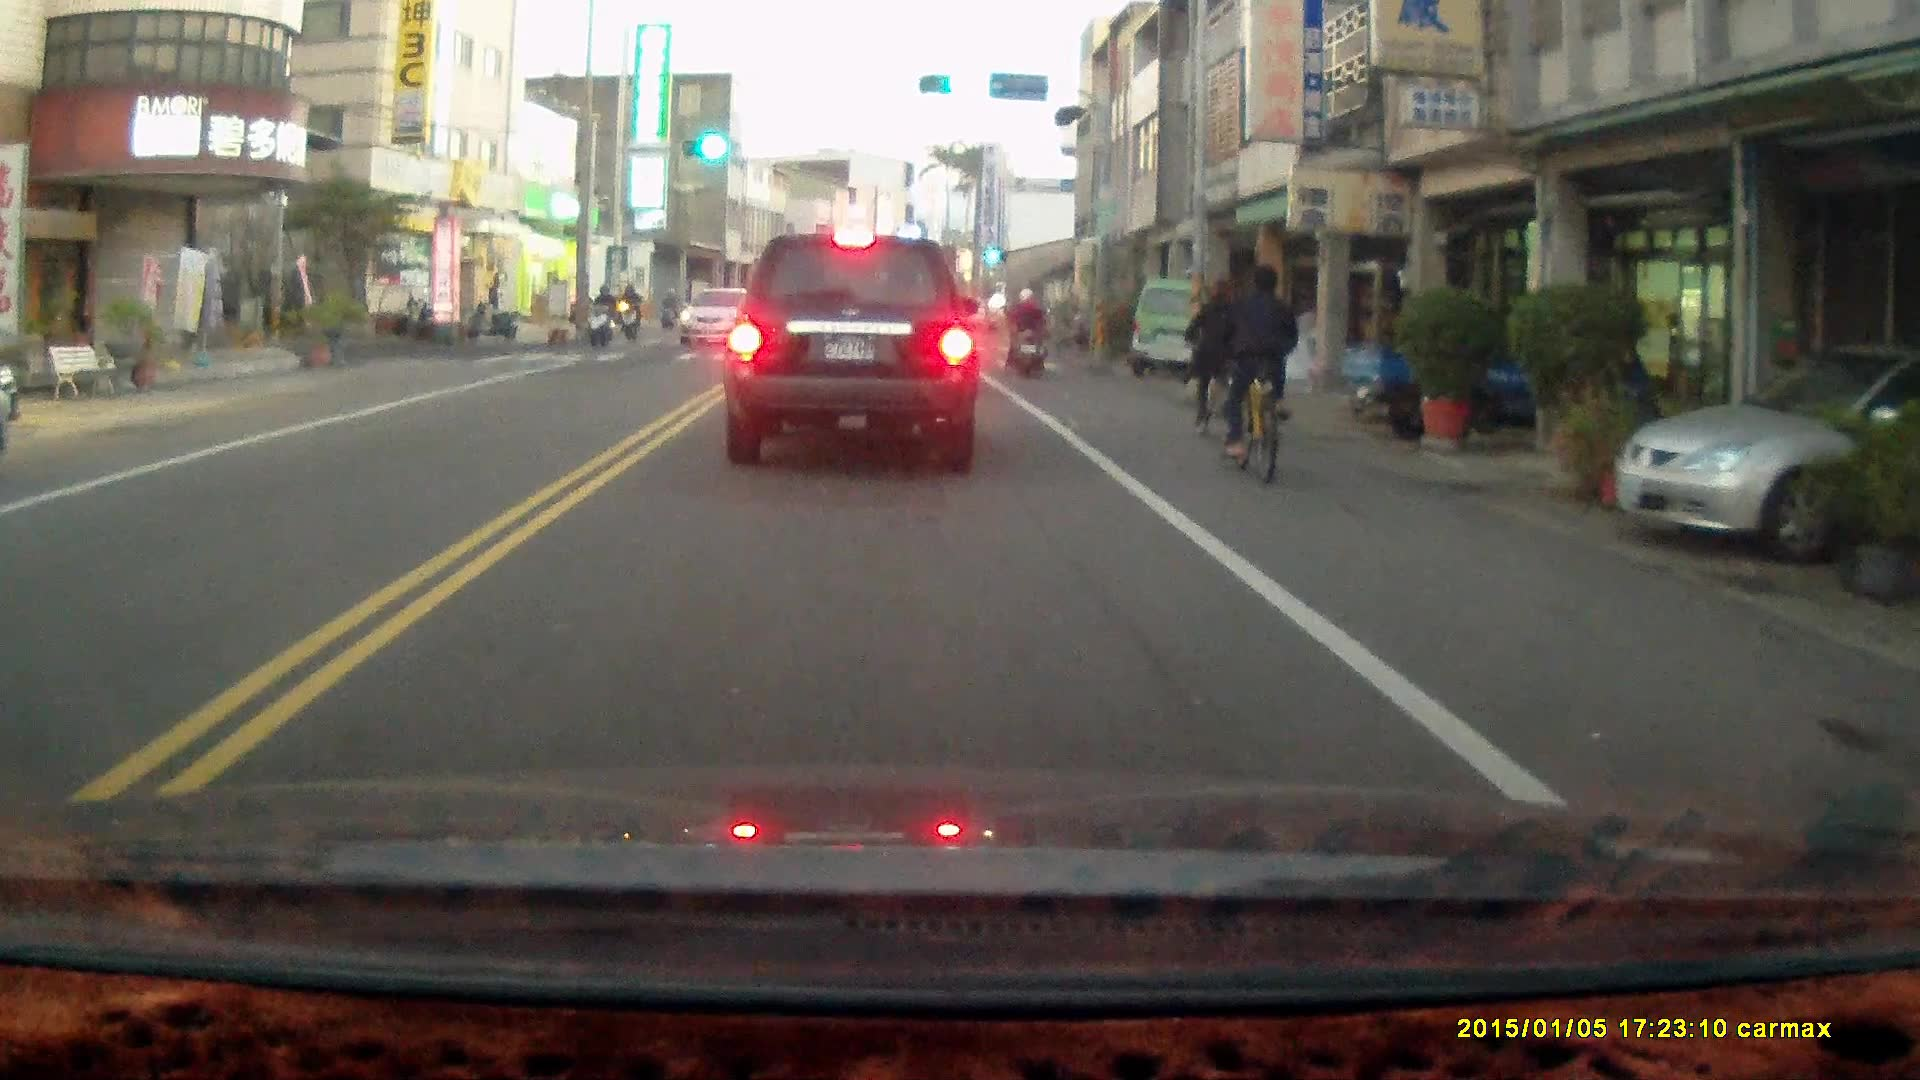pedestrian: (480, 261, 500, 316)
rider: (1213, 261, 1298, 481), (1181, 275, 1245, 444), (997, 283, 1051, 375), (582, 280, 618, 351), (612, 279, 640, 340), (656, 285, 676, 325)
vehicle: (1612, 341, 1920, 570), (723, 232, 982, 476), (1134, 277, 1231, 372), (672, 286, 775, 352)
